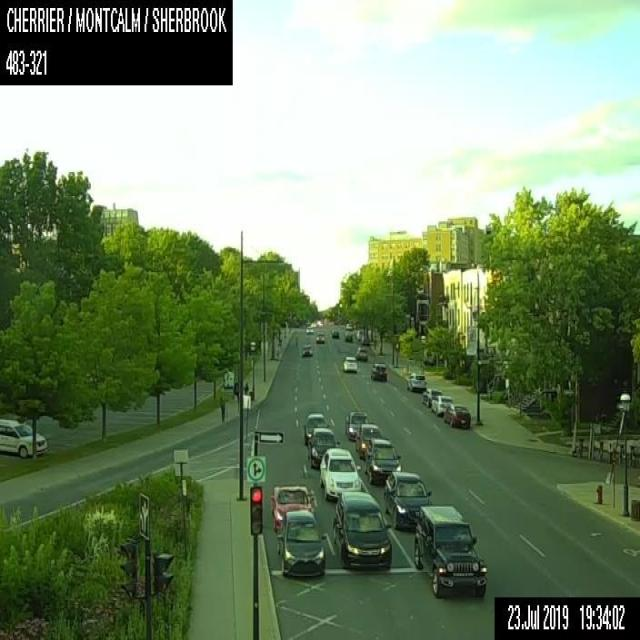pedestrian: (218, 394, 224, 420), (244, 381, 248, 393)
vehicle: (413, 504, 487, 596), (331, 491, 392, 571), (276, 510, 326, 577), (384, 470, 431, 530), (319, 446, 360, 500), (269, 485, 313, 531), (362, 436, 400, 484), (0, 418, 46, 457), (305, 426, 340, 468), (355, 423, 380, 460), (304, 412, 329, 444), (344, 410, 369, 440), (444, 403, 471, 428), (432, 395, 452, 415), (406, 372, 426, 391), (422, 389, 442, 406), (371, 362, 387, 380), (342, 356, 356, 372), (355, 346, 367, 360), (301, 343, 312, 356), (315, 330, 324, 342), (356, 328, 363, 340), (331, 328, 339, 337), (344, 332, 352, 341), (305, 326, 313, 333), (345, 322, 352, 328)
